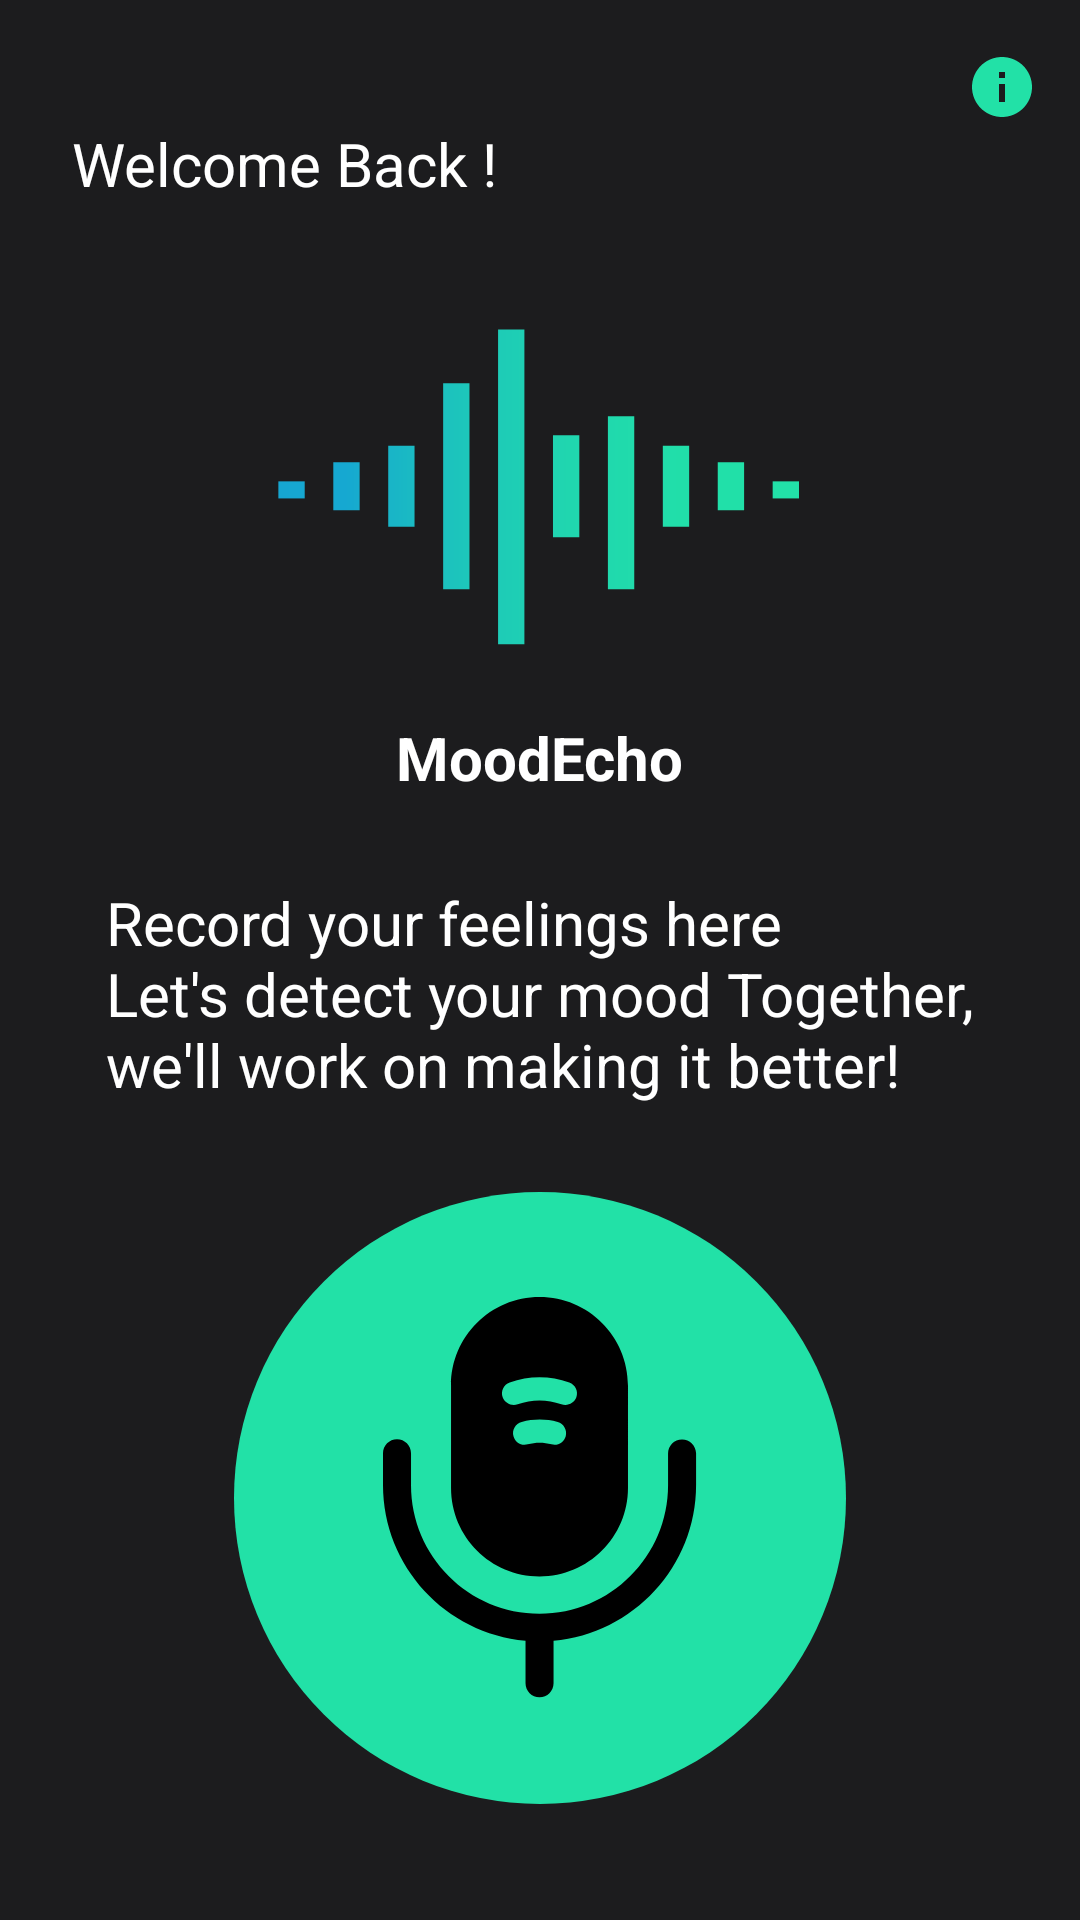

Screen size 1080w x 1920h. Icon name, then its center in pixels as (x=x, y=y):
info: (x=1002, y=87)
